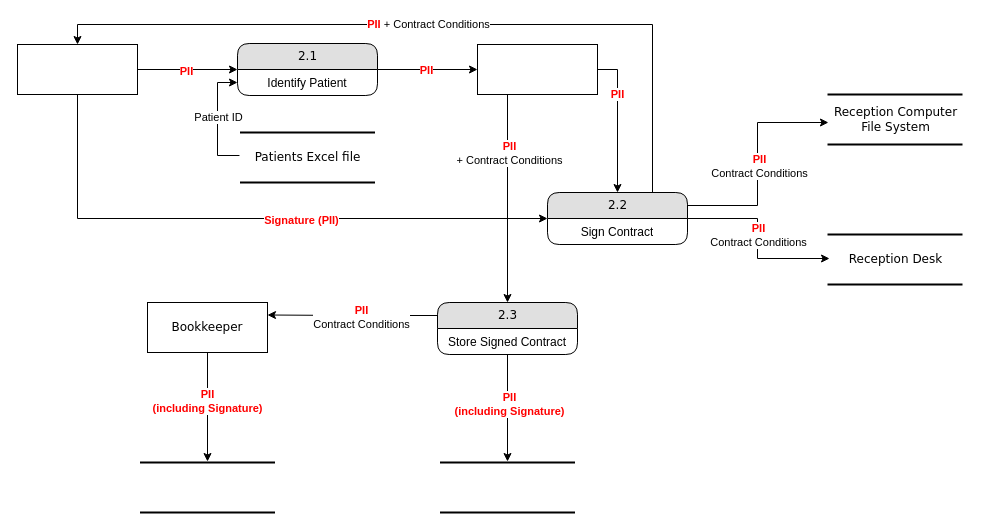
Some shapes in this 981 by 531 pixel diagram are drawn without their labels. Here are the shapes that lost their labels. From the top down, the centre of each, then its label:
(x=77, y=69): Patient
(x=537, y=69): Reception
(x=207, y=487): Documents cabinet
(x=507, y=487): Patient data file
